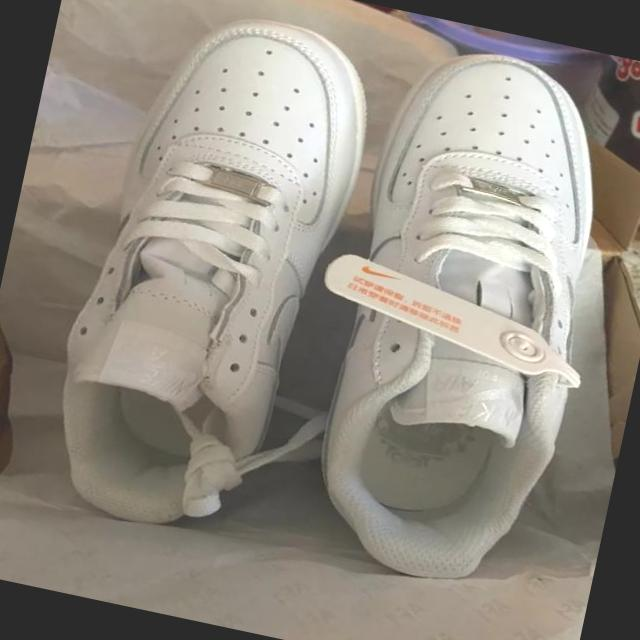nike_fake_airforce: (32, 0, 394, 555), (287, 31, 634, 602), (313, 33, 640, 468)
